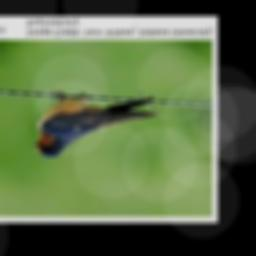Swallow: (32, 97, 157, 158)
